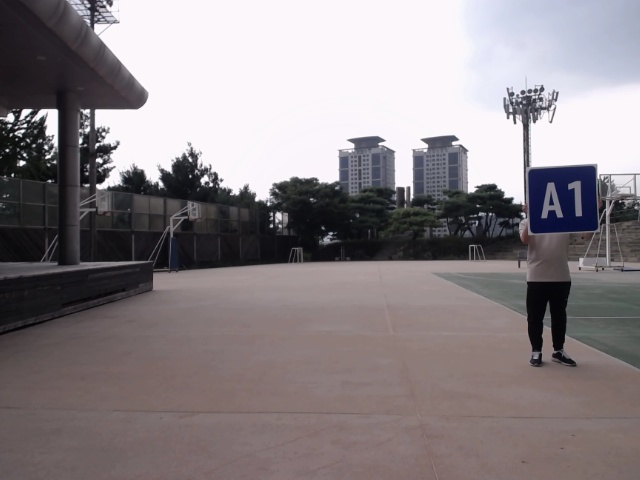delivery_a1: (527, 166, 598, 235)
